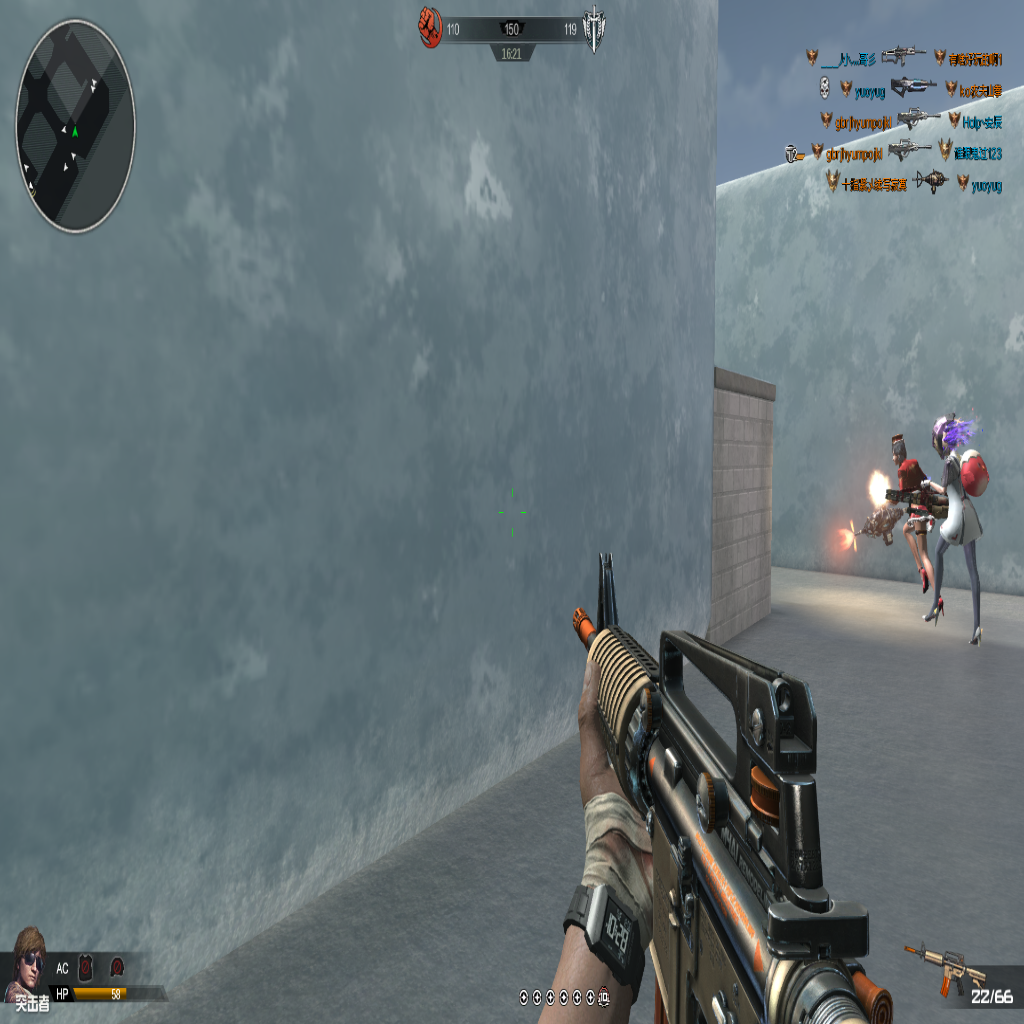tt: (915, 414, 990, 644)
